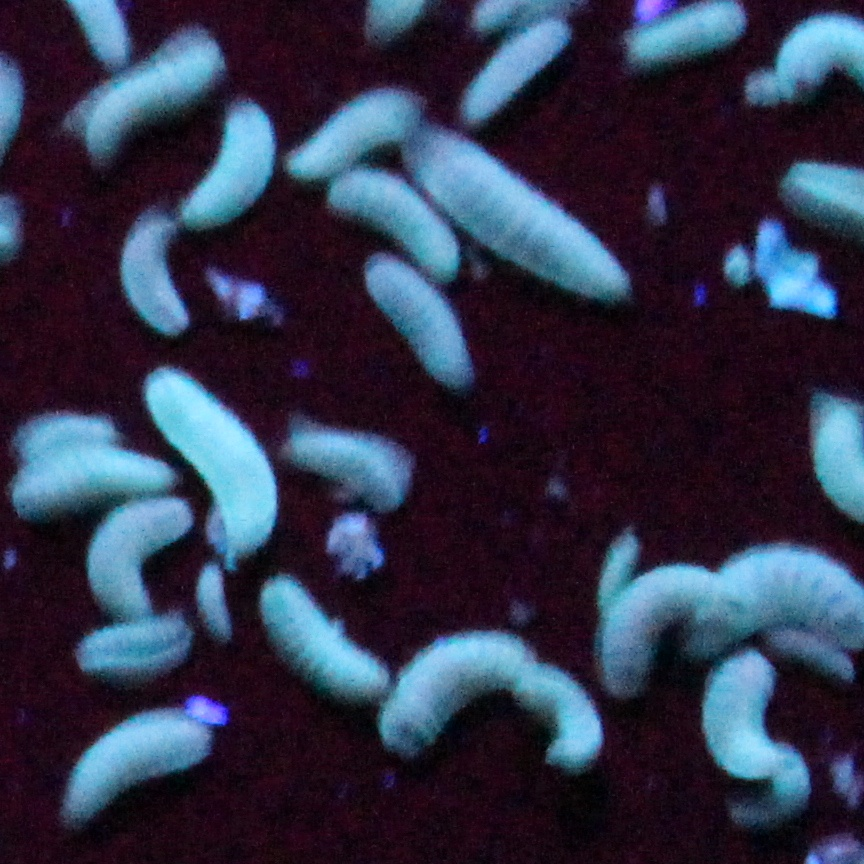larve: (400, 121, 641, 300), (139, 367, 283, 558), (373, 627, 537, 752), (73, 31, 229, 154), (58, 708, 216, 829), (325, 167, 464, 283), (366, 260, 481, 387), (600, 560, 714, 687), (262, 577, 387, 692), (454, 15, 575, 133), (83, 494, 191, 617), (12, 446, 179, 525), (285, 415, 412, 508), (283, 87, 427, 169), (183, 96, 273, 227), (698, 646, 775, 771), (521, 662, 604, 771), (121, 210, 189, 333), (77, 617, 191, 671), (14, 408, 121, 456), (200, 565, 233, 640)
